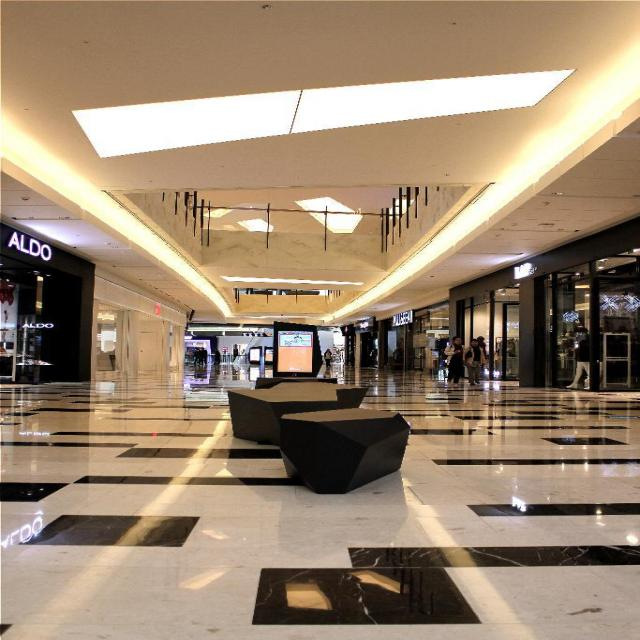table: (280, 403, 411, 494)
